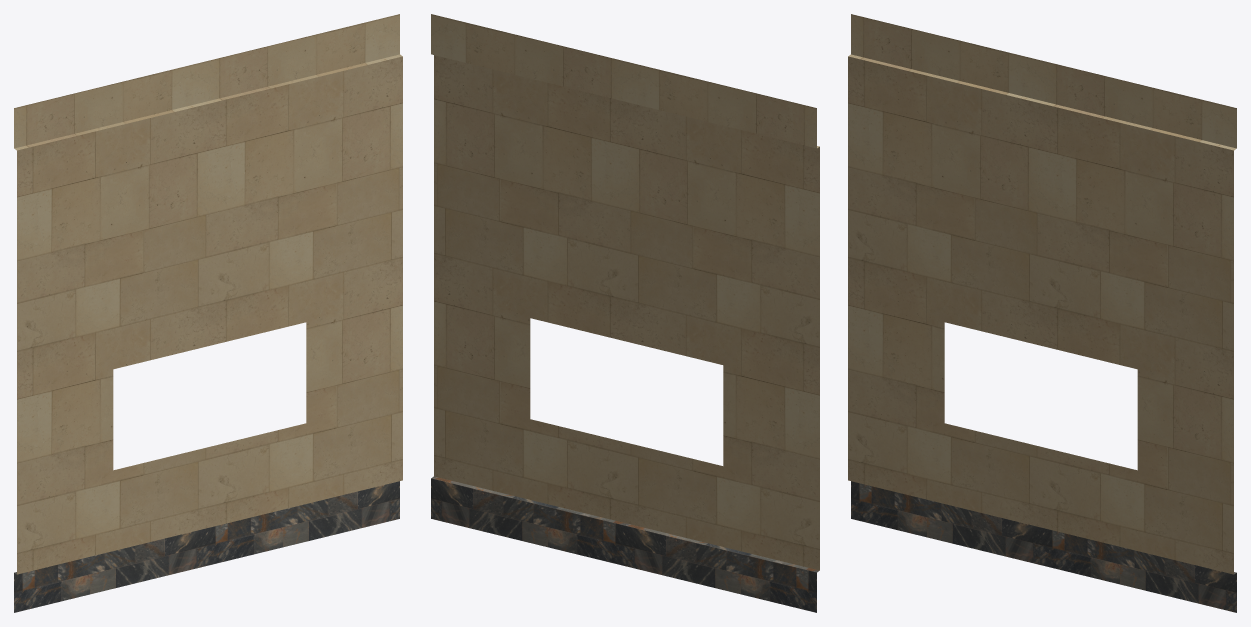
Rendered from WindowFrame_01.fbx.
3 views of the same model, side by side, from view 1: azimuth 30°, elevation 25°; view 2: azimuth 150°, elevation 25°; view 3: azimuth 330°, elevation 25° (orthographic).
Parts seen in each view (by area): view 1: Cube.145; view 2: Cube.145; view 3: Cube.145.
Part boxes in pixels (bbox=[...]): Cube.145: bbox=[14, 14, 402, 612]; Cube.145: bbox=[431, 14, 819, 612]; Cube.145: bbox=[848, 14, 1236, 612].
Size of the model in its own units: 400 by 500 by 5.
